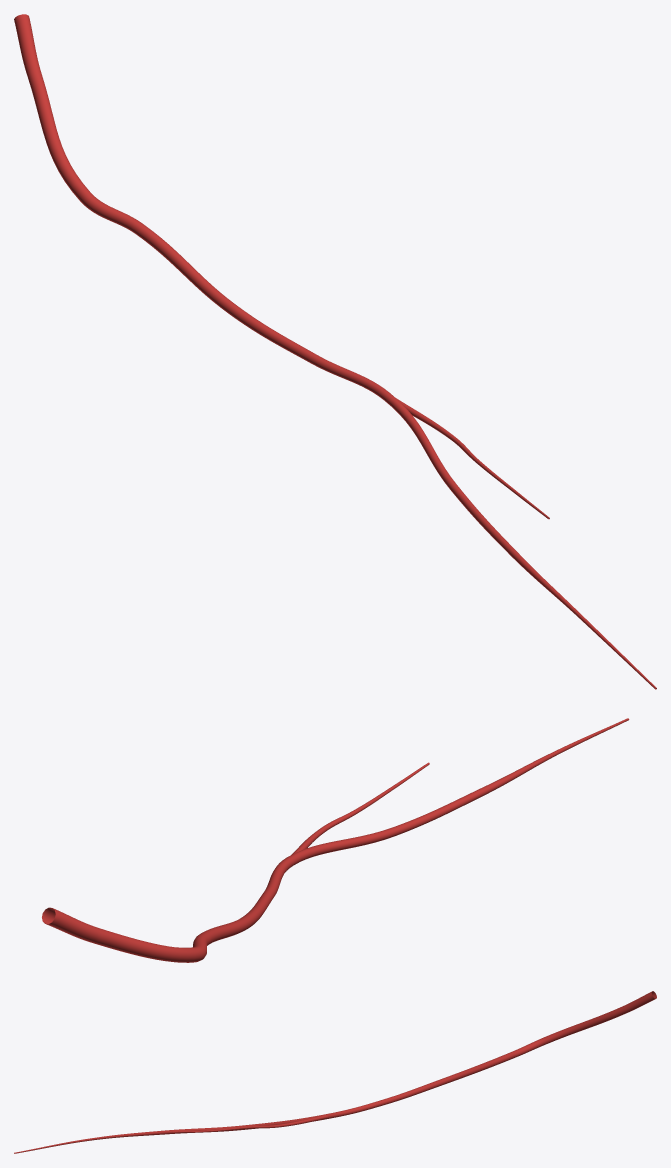
3 views of the same model, one above another, from view 1: azimuth 30°, elevation 25°; view 2: azimuth 150°, elevation 25°; view 3: azimuth 270°, elevation 25° (orthographic). The views are drawn at different scales.
Parts seen in each view (by area): view 1: 左侧腹壁浅动脉; view 2: 左侧腹壁浅动脉; view 3: 左侧腹壁浅动脉.
Part boxes in pixels (box(x1,y1,x2,y2)): 左侧腹壁浅动脉: box(14, 14, 656, 689); 左侧腹壁浅动脉: box(42, 718, 629, 962); 左侧腹壁浅动脉: box(14, 991, 656, 1153).
Size of the model in its own units: 0.0435 by 0.0821 by 0.3247.
